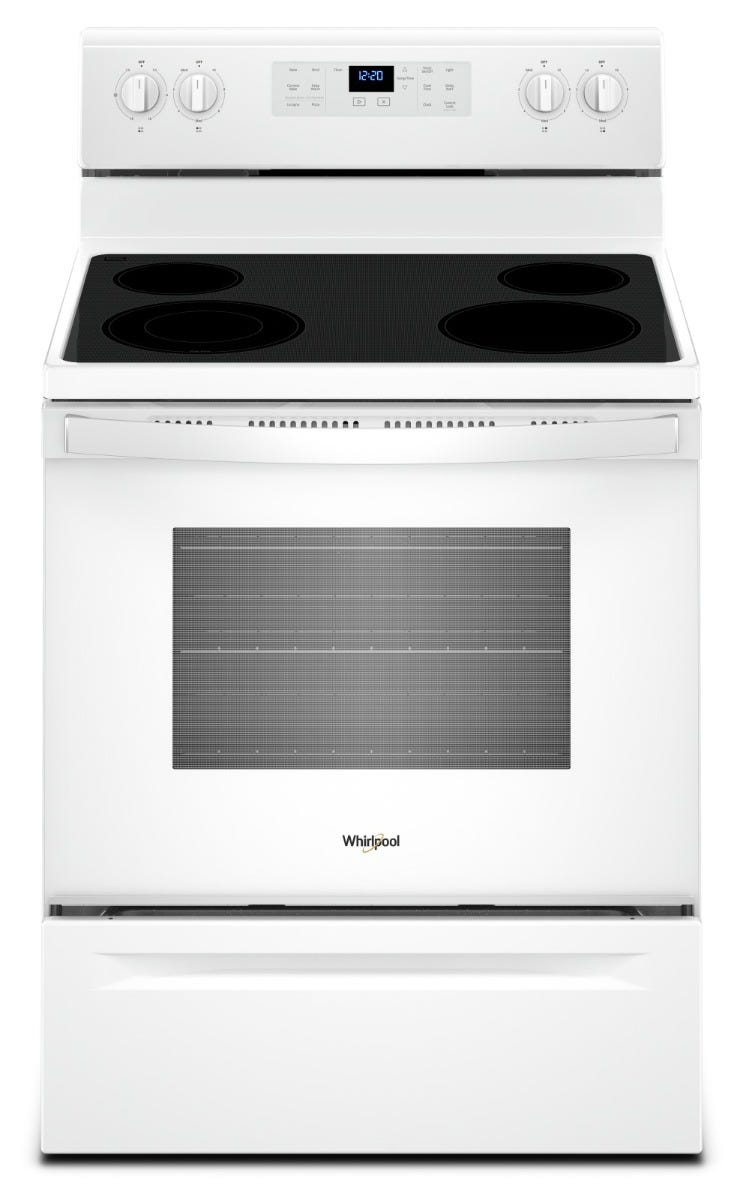stove: (21, 17, 728, 1189)
